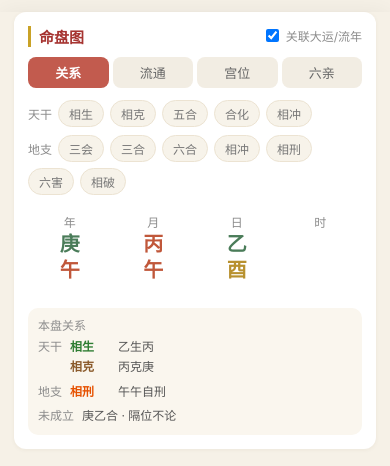
Test: 流通 tab › omits day→time arrows when the time pillar is missing
Click the button with test id "tab-liutong" at (153, 72), box [112, 57, 193, 88]
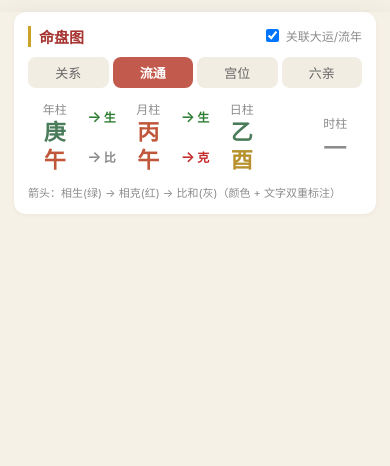
Now the element with test id "arrow-gan-year-month" is shown, box [87, 107, 116, 126]
